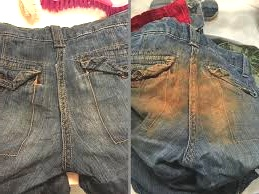earth: (195, 70, 234, 144), (141, 72, 188, 115)
